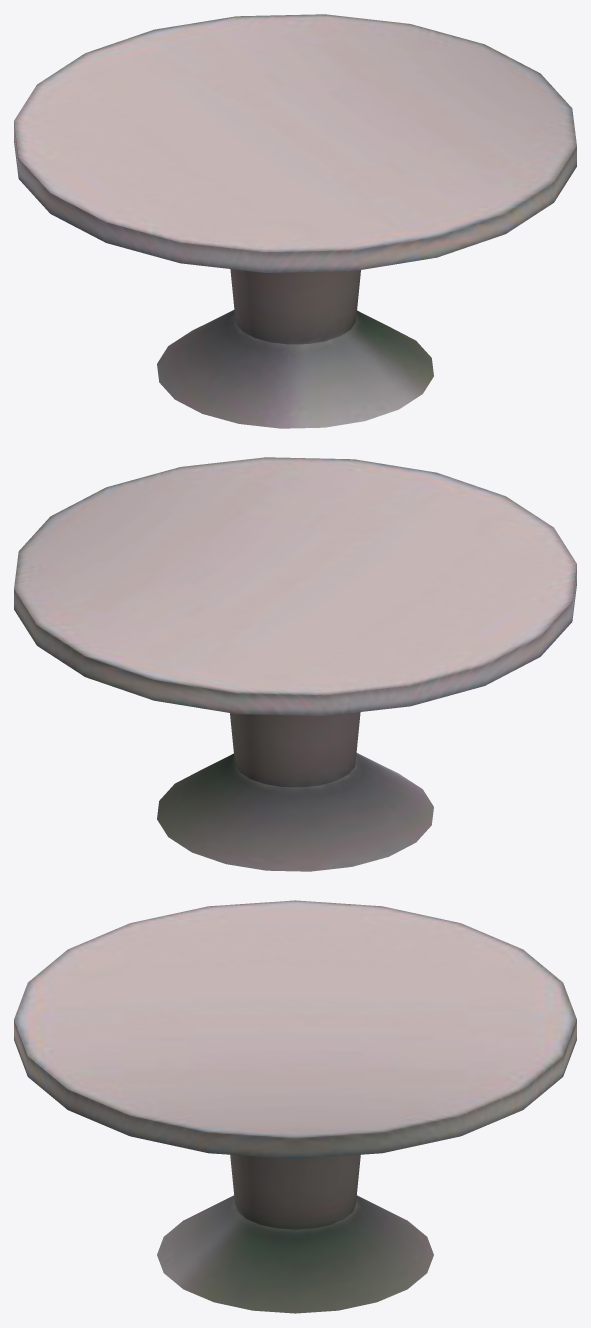
File: cakeStand.gltf
The picture shows the model from 3 angles, top to bottom: view 1: azimuth 30°, elevation 25°; view 2: azimuth 150°, elevation 25°; view 3: azimuth 270°, elevation 25°; orthographic projection.
Visible parts, largest first — view 1: CakeBase; view 2: CakeBase; view 3: CakeBase.
Part boxes in pixels (box(x1,y1,x2,y2)): CakeBase: box(14, 14, 576, 428); CakeBase: box(14, 457, 576, 871); CakeBase: box(14, 900, 576, 1313).
Size of the model in its own units: 0.342 by 0.1579 by 0.342.
1 material, 1 textured.
